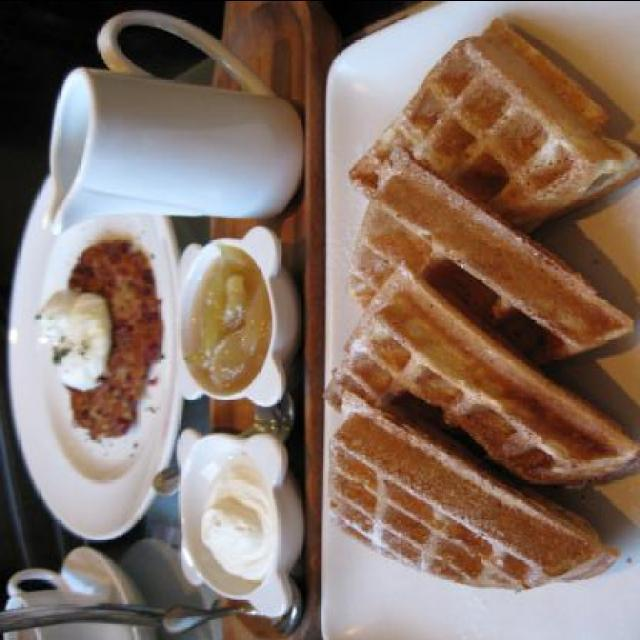Waffle: (317, 260, 640, 492), (343, 144, 639, 366), (341, 13, 639, 230), (328, 388, 618, 594)
